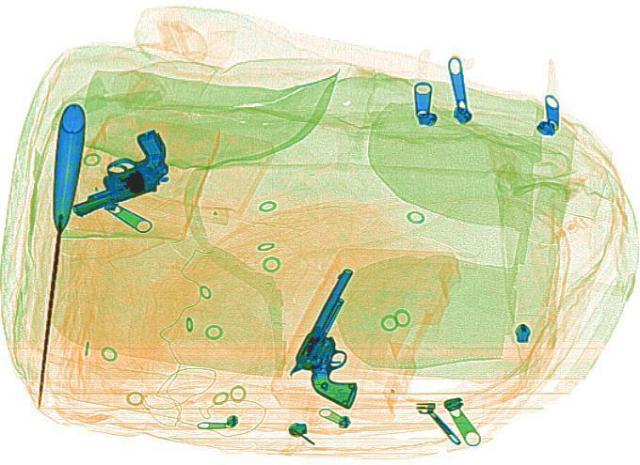Gun: (272, 264, 422, 407), (40, 126, 192, 215)
Knife: (20, 102, 86, 407)
